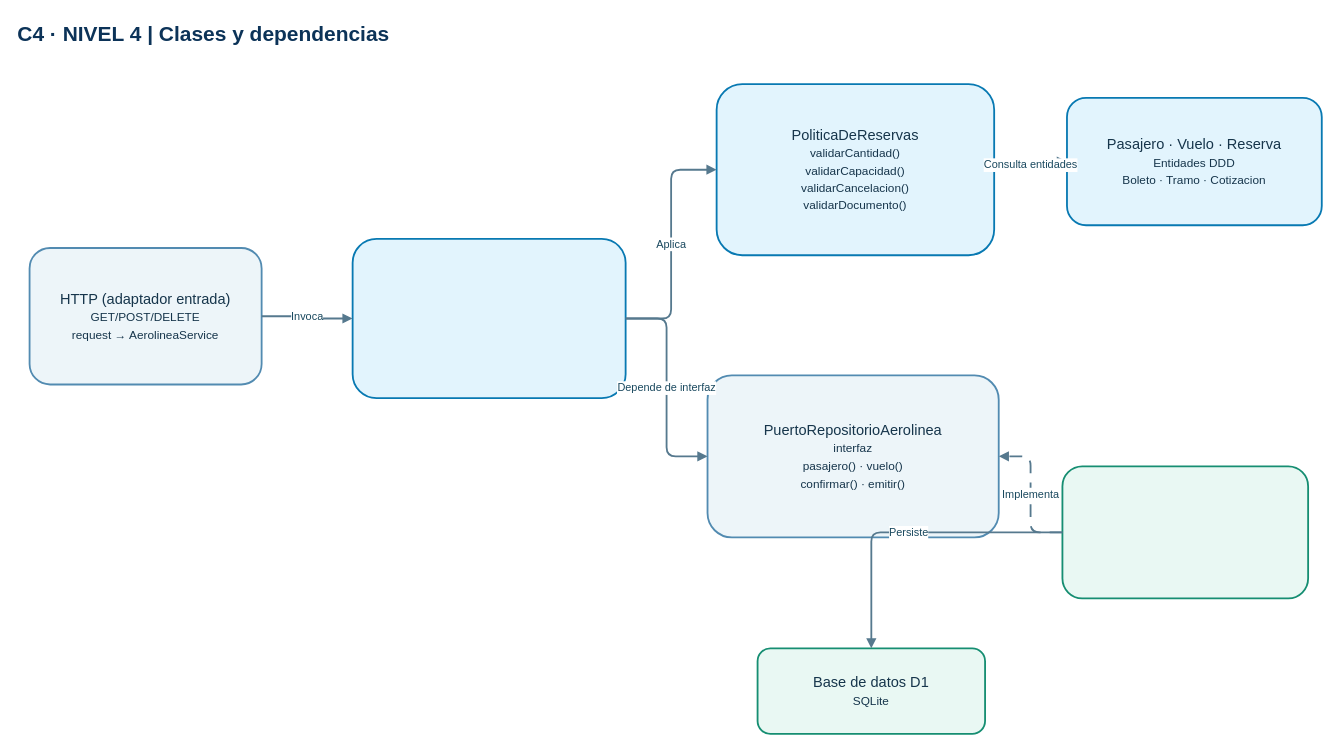
Some shapes in this 1338 by 750 pixel diagram are drawn without their labels. Here are the shapes that lost their labels. From the top down, the centre of each, then its label:
At point (488, 318): "AerolineaService crearReserva() cotizar() · confirmar() emitir() · checkin()".
At point (1185, 532): "D1Repositorio implements Puerto… SQL con parámetros".
